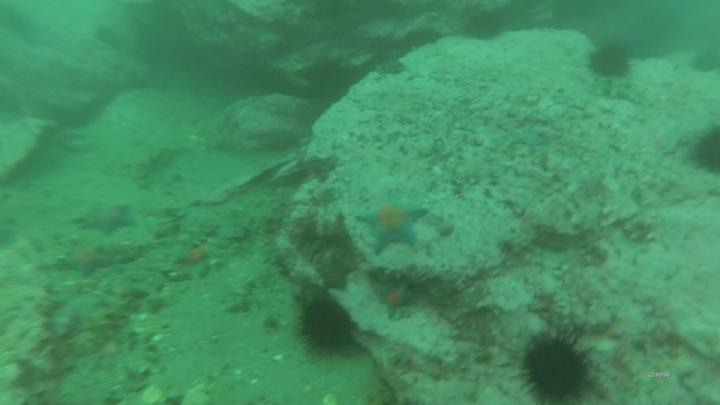echinus: (514, 329, 597, 405), (298, 291, 358, 359), (586, 45, 636, 82), (690, 126, 720, 180), (462, 12, 507, 44), (688, 50, 720, 76)
holothurian: (69, 304, 135, 358)
starfish: (352, 192, 433, 258), (8, 347, 76, 393), (74, 200, 139, 240), (56, 247, 117, 278), (374, 281, 421, 319), (313, 253, 356, 294)
